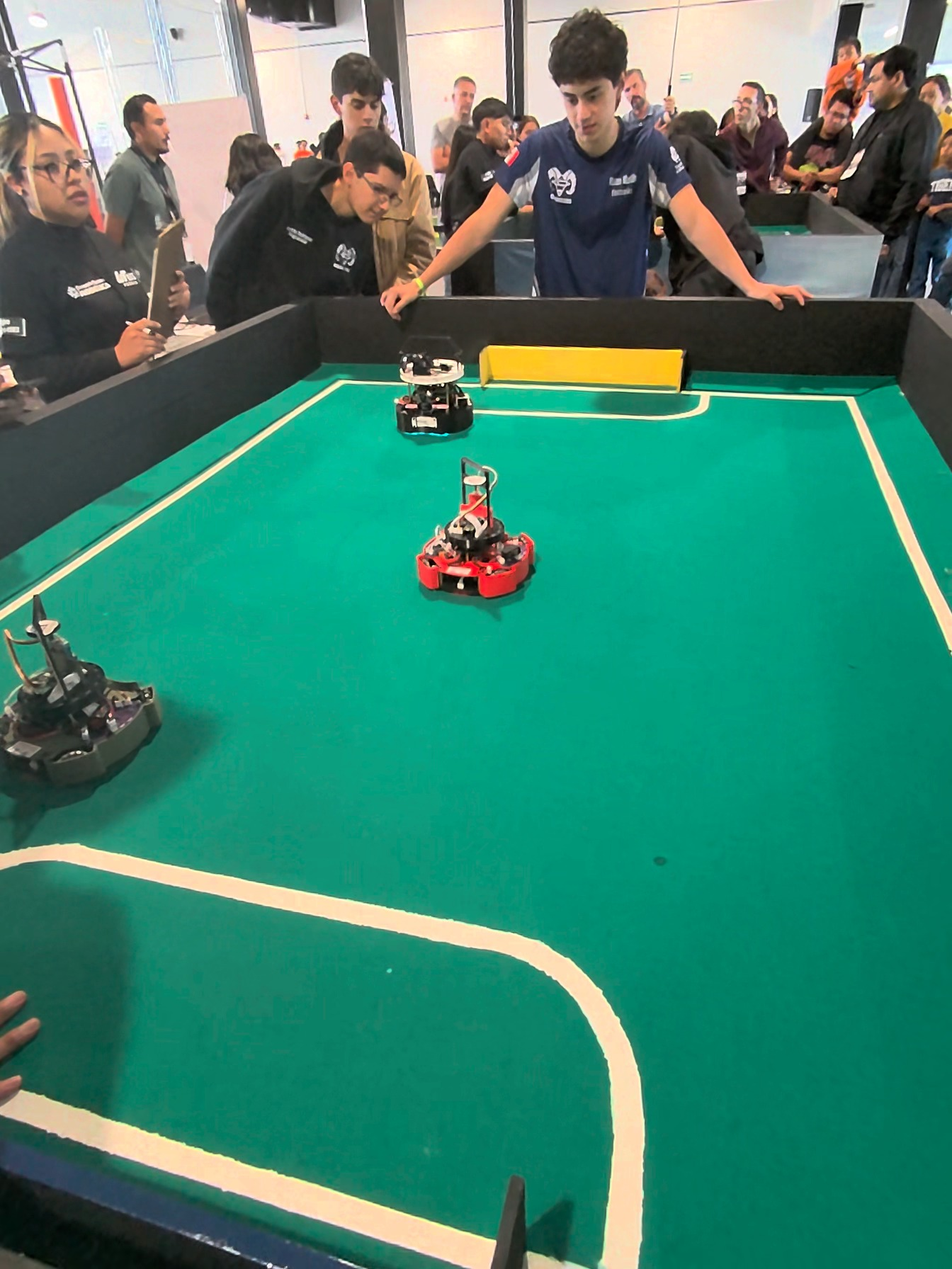Robot: (6, 631, 167, 806), (419, 465, 537, 612), (393, 345, 475, 447)
